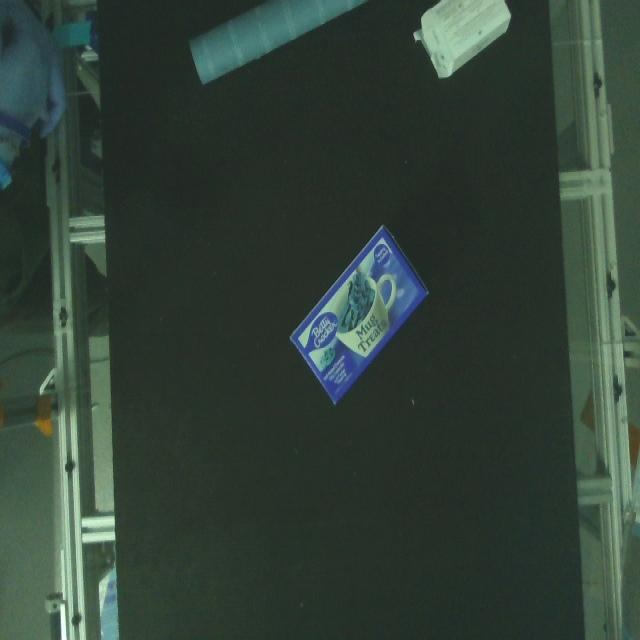paper: (279, 210, 447, 428), (181, 0, 380, 107), (404, 0, 515, 88)
